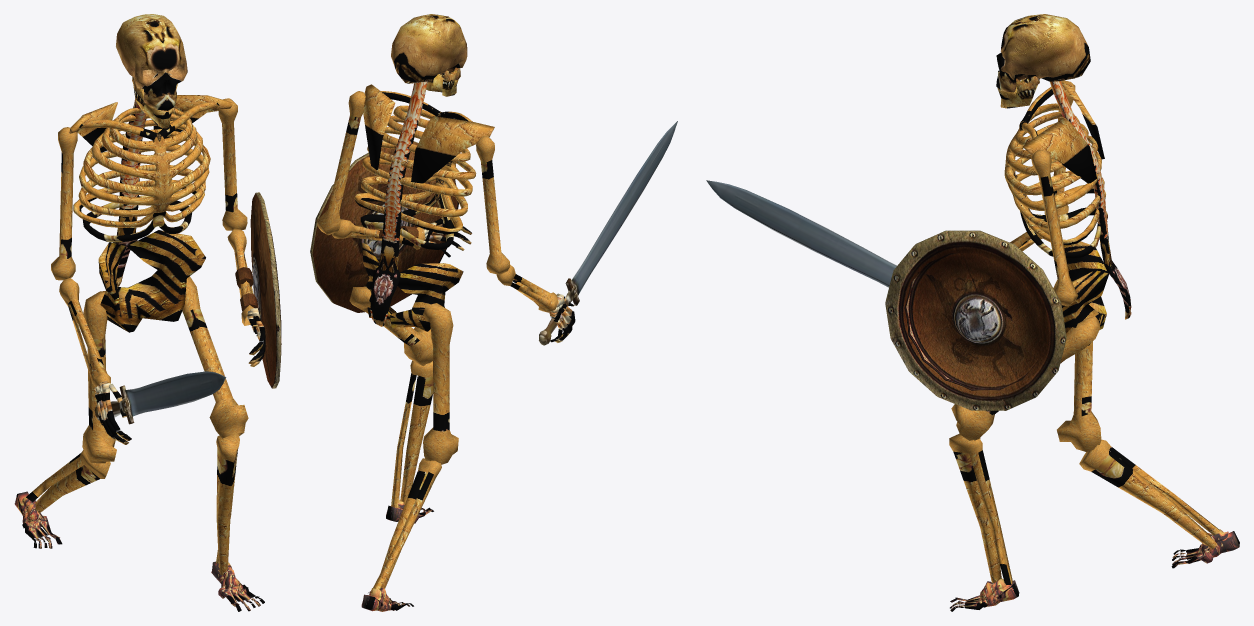
The model's file is Skeleton_000003.obj.
The picture shows the model from 3 angles, left to right: view 1: azimuth 30°, elevation 25°; view 2: azimuth 150°, elevation 25°; view 3: azimuth 270°, elevation 25°; orthographic projection. The views are drawn at different scales.
Parts seen in each view (by area): view 1: Costillar, Coxis, Femur, Skull, Shield_Shield.001, Tibia, Humero, Sword, Radio, Feet, Hands, Omoplato (+1 smaller); view 2: Costillar, Shield_Shield.001, Tibia, Femur, Omoplato, Skull, Humero, Coxis, Sword, Radio, Hands, Feet (+1 smaller); view 3: Shield_Shield.001, Costillar, Tibia, Skull, Sword, Femur, Omoplato, Coxis, Humero, Feet, Mandibula.
Part boxes in pixels (x1,y1,x2,y2): Costillar: (73,99,219,286); Coxis: (98,230,205,332); Femur: (82,276,248,463); Skull: (116,14,187,110); Shield_Shield.001: (235,192,281,388); Tibia: (26,433,239,575); Humero: (51,98,247,280); Sword: (94,371,226,424); Radio: (59,228,254,387); Feet: (14,491,264,611); Hands: (94,308,265,444); Omoplato: (69,95,232,152); Costillar: (354,81,476,326); Shield_Shield.001: (310,141,458,312); Tibia: (370,360,441,593); Femur: (349,286,458,464); Omoplato: (363,84,494,183); Skull: (391,14,467,83); Humero: (317,91,509,274); Coxis: (362,243,463,331); Sword: (539,121,677,345); Radio: (332,219,557,312); Hands: (422,218,575,342); Feet: (361,500,433,611); Shield_Shield.001: (885,230,1066,410); Costillar: (1004,81,1131,319); Tibia: (949,433,1222,584); Skull: (996,14,1090,92); Sword: (706,180,897,287); Femur: (951,316,1101,451); Omoplato: (1022,80,1104,183); Coxis: (1062,241,1108,345); Humero: (1031,81,1078,306); Feet: (950,529,1239,611); Mandibula: (997,76,1039,108).
Size of the model in its own units: 3.23 by 8.27 by 7.06.
Materials: 5 (5 with a texture image).
